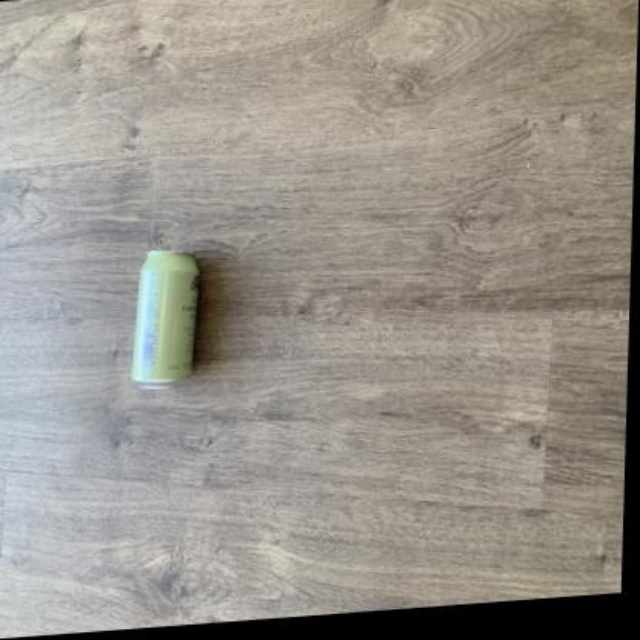trash: (132, 251, 197, 383)
